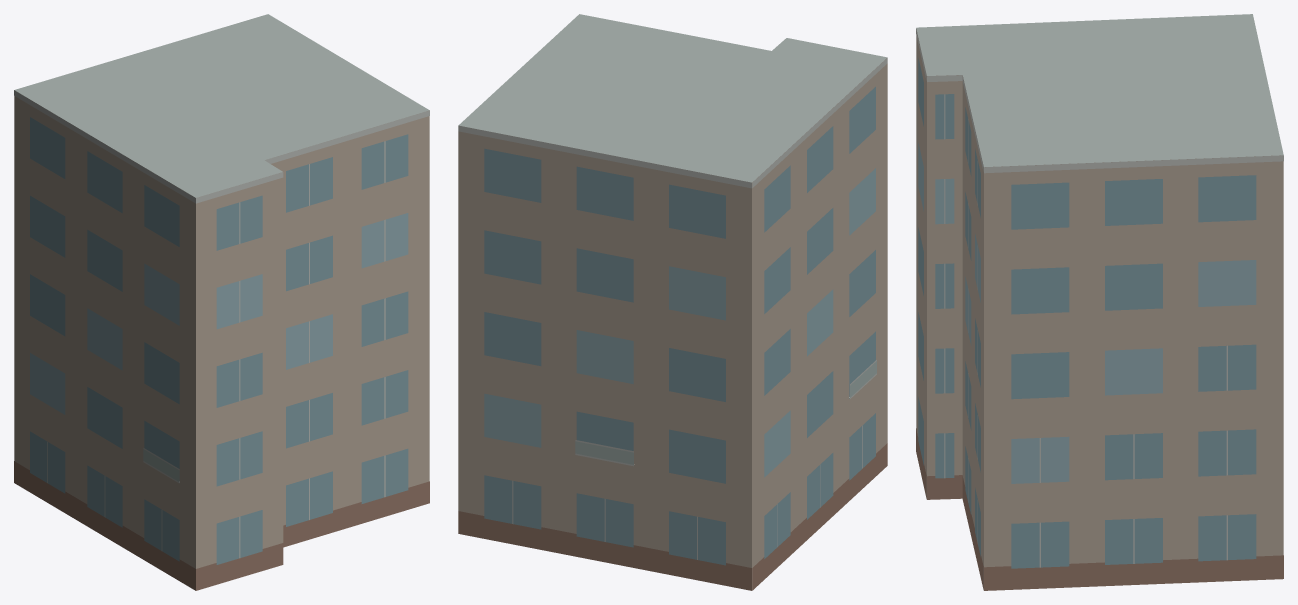
Rendered from survey-upis-32561916.glb.
The picture shows the model from 3 angles, left to right: view 1: azimuth 30°, elevation 25°; view 2: azimuth 150°, elevation 25°; view 3: azimuth 270°, elevation 25°; orthographic projection. The views are drawn at different scales.
Visible parts, largest first — view 1: survey-upis-32561916.tmp; view 2: survey-upis-32561916.tmp; view 3: survey-upis-32561916.tmp.
Part boxes in pixels (x1=…): survey-upis-32561916.tmp: x1=14, y1=14, x2=429, y2=590; survey-upis-32561916.tmp: x1=458, y1=14, x2=887, y2=590; survey-upis-32561916.tmp: x1=916, y1=14, x2=1283, y2=590.
Bounding box in the file's own units: 13.19 × 17 × 13.38.
